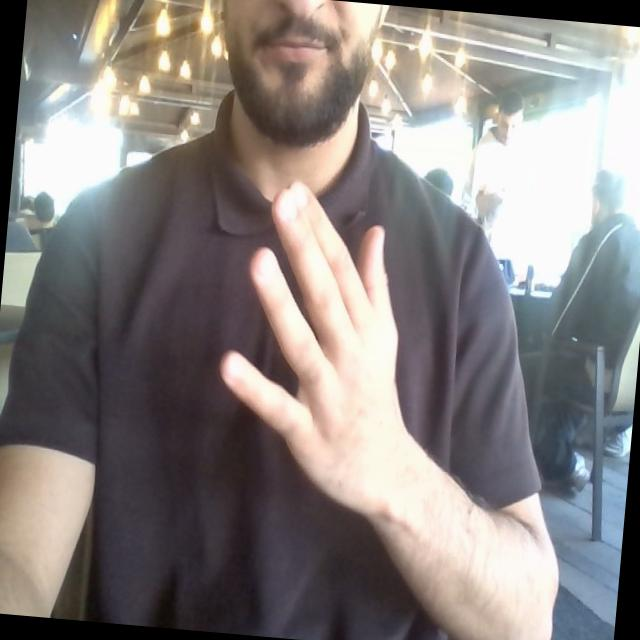Hand: (221, 184, 416, 515)
